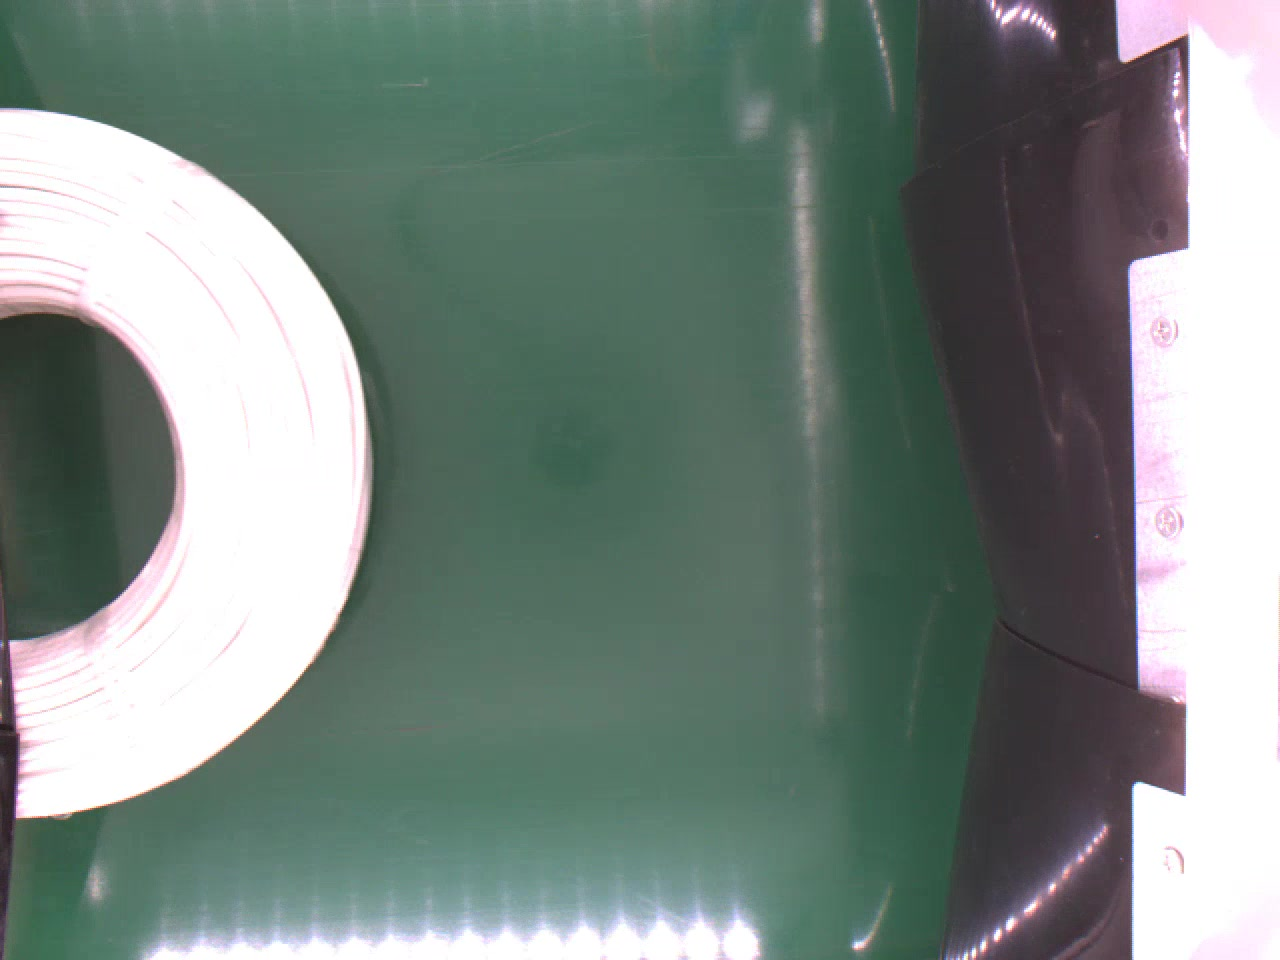white: (0, 102, 374, 810)
